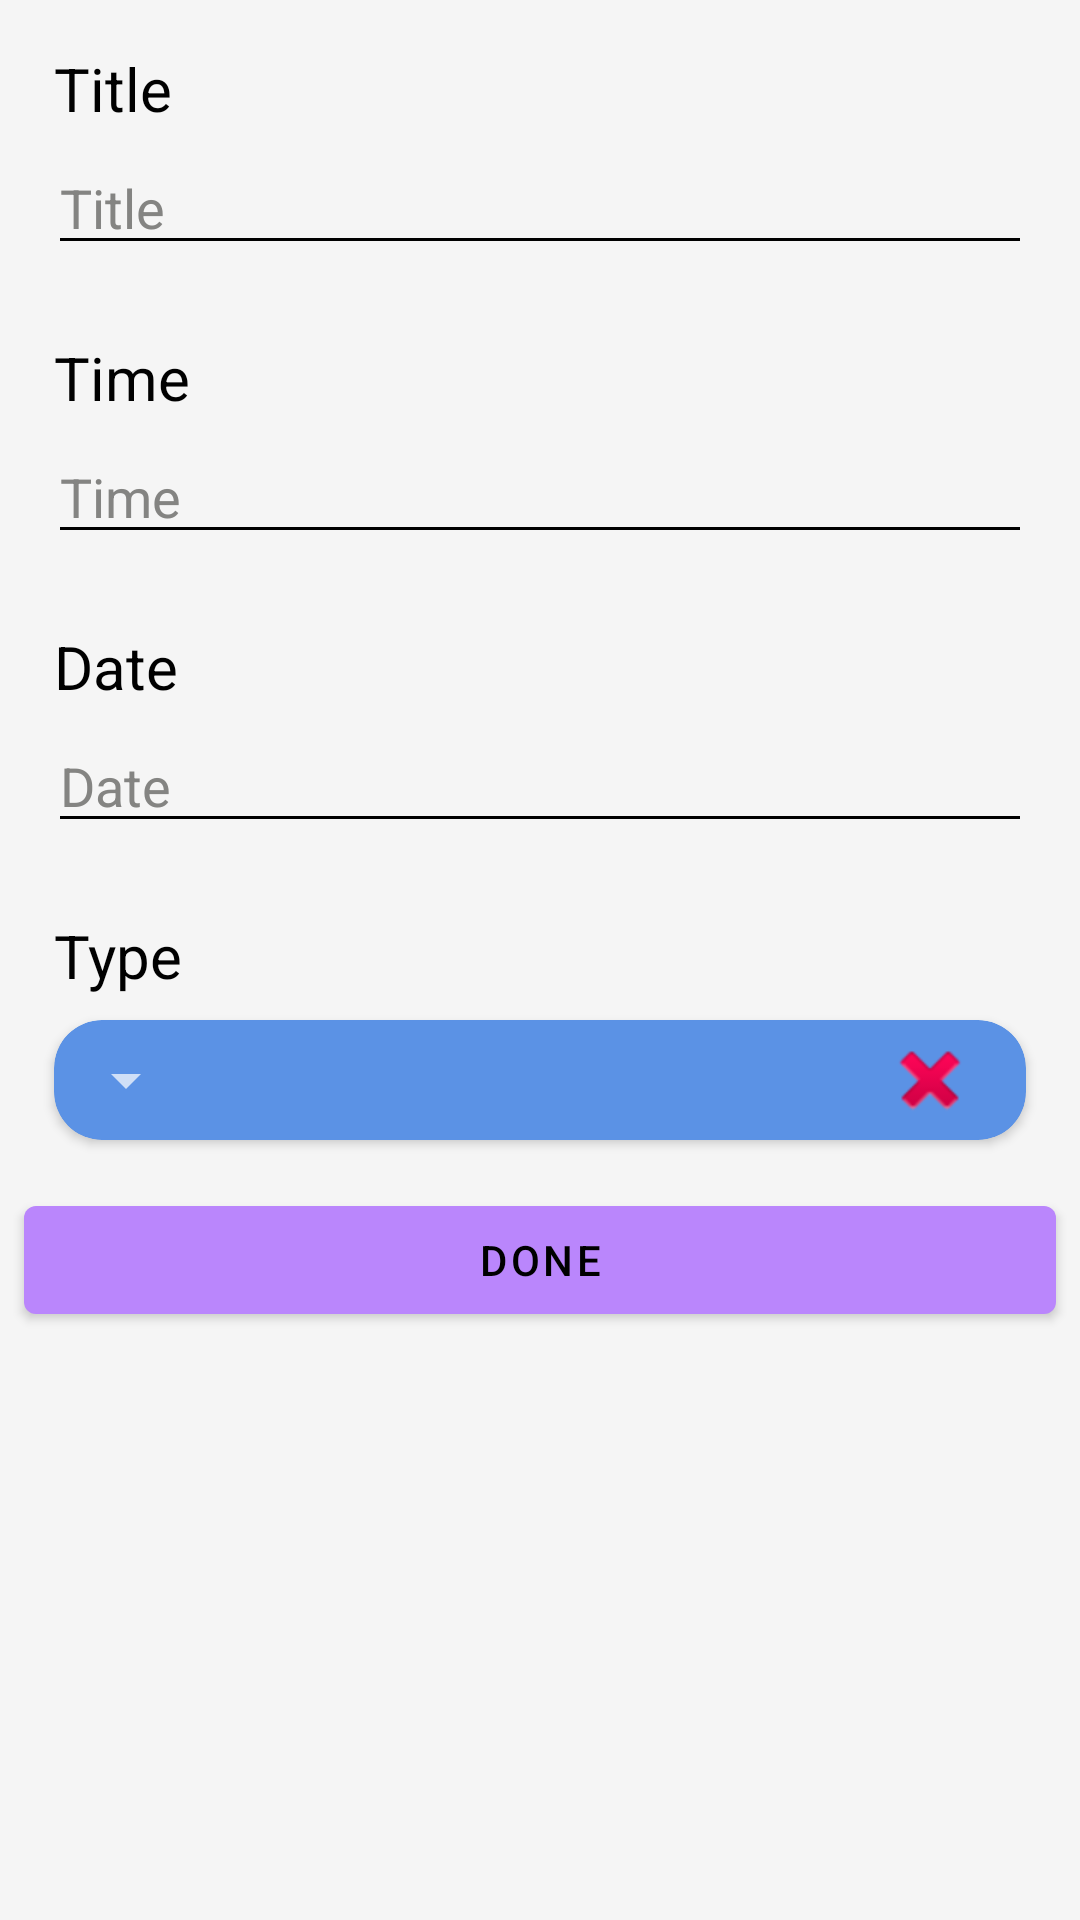

Screen size 1080px×1920px. Icon name, then its box in pixels as [x1,y1,x2,y2]:
delete: [900,1051,960,1110]
